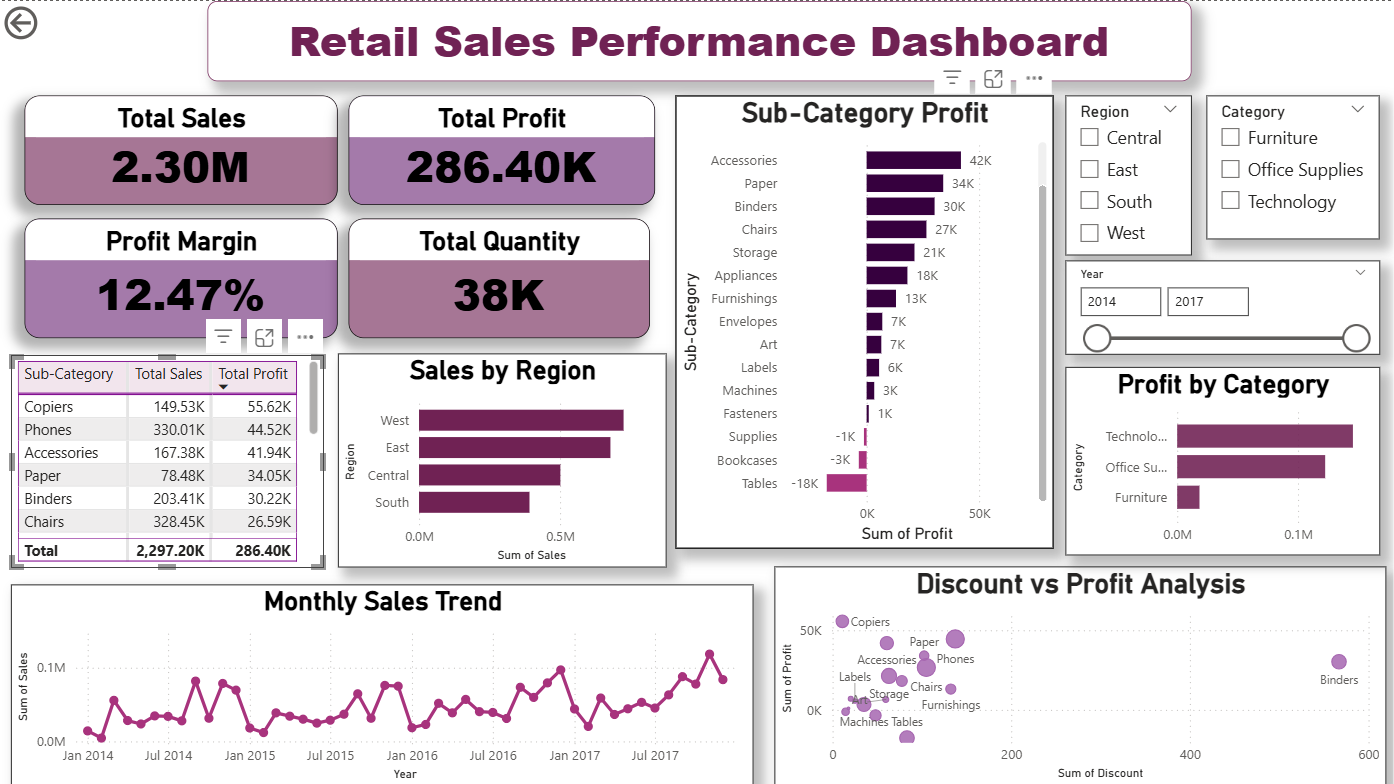

What the dashboard file says about the page in this screenshot:
{"tool":"powerbi","page":{"name":"Dashboard","canvas":[1280,720],"ordinal":3},"visuals":[{"type":"textbox","box":[190,0,898.3,73.3],"z":0},{"type":"card","title":"Total Sales","fields":{"Values":["Sum(Sample - Superstore.Sales)"]},"box":[23.4,85.9,285.9,100],"z":1000},{"type":"card","title":"Total Profit","fields":{"Values":["Sum(Sample - Superstore.Profit)"]},"box":[318.8,85.9,279.7,100],"z":2000},{"type":"card","title":"Total Quantity","fields":{"Values":["Sum(Sample - Superstore.Quantity)"]},"box":[318.8,198.4,275,109.4],"z":3000},{"type":"card","title":"Profit Margin","fields":{"Values":["Sample - Superstore.Profit Margin"]},"box":[23.4,198.4,285.9,109.4],"z":4000},{"type":"clusteredBarChart","title":"Sales by Region","fields":{"Category":["Sample - Superstore.Region"],"Y":["Sum(Sample - Superstore.Sales)"]},"box":[309.4,321.9,300,195.3],"z":5000},{"type":"clusteredBarChart","title":"Sub-Category Profit","fields":{"Category":["Sample - Superstore.Sub-Category"],"Y":["Sum(Sample - Superstore.Profit)"]},"box":[617.2,85.9,345.3,414.1],"z":6000},{"type":"scatterChart","title":"Discount vs Profit Analysis","fields":{"X":["Sum(Sample - Superstore.Discount)"],"Y":["Sum(Sample - Superstore.Profit)"],"Category":["Sample - Superstore.Sub-Category"],"Size":["Sum(Sample - Superstore.Sales)"]},"box":[707.7,516.9,558.5,200],"z":7000},{"type":"slicer","title":"Region","fields":{"Values":["Sample - Superstore.Region"]},"box":[973.8,86.2,115.4,146.2],"z":8000},{"type":"lineChart","title":"Monthly Sales Trend","fields":{"Category":["Sample - Superstore.Order Date.Variation.Date Hierarchy.Year","Sample - Superstore.Order Date.Variation.Date Hierarchy.Quarter","Sample - Superstore.Order Date.Variation.Date Hierarchy.Month","Sample - Superstore.Order Date.Variation.Date Hierarchy.Day"],"Y":["Sum(Sample - Superstore.Sales)"]},"box":[10.9,532.8,678.1,184.4],"z":9000},{"type":"slicer","fields":{"Values":["Sample - Superstore.Category"]},"box":[1103.1,85.9,157.8,131.2],"z":10000},{"type":"slicer","fields":{"Values":["Sample - Superstore.Order Date.Variation.Date Hierarchy.Year"]},"box":[973.4,237.5,287.5,85.9],"z":10001},{"type":"clusteredBarChart","title":"Profit by Category","fields":{"Category":["Sample - Superstore.Category"],"Y":["Sum(Sample - Superstore.Profit)"]},"box":[973.4,334.4,287.5,171.9],"z":10002},{"type":"tableEx","fields":{"Values":["Sample - Superstore.Sub-Category","Sum(Sample - Superstore.Sales)","Sum(Sample - Superstore.Profit)"]},"box":[10.9,323.4,285.9,193.8],"z":10003},{"type":"actionButton","box":[0,0,100,40],"z":10004}]}

Visuals, with their boxes in screenshot pixels (x1, y1, x2, y2), scaled from the page's 1280x720 canvas onto the 1394x784 screenshot:
textbox: box=[207, 0, 1185, 80]
"Total Sales" card: box=[25, 94, 337, 202]
"Total Profit" card: box=[347, 94, 652, 202]
"Total Quantity" card: box=[347, 216, 647, 335]
"Profit Margin" card: box=[25, 216, 337, 335]
"Sales by Region" clusteredBarChart: box=[337, 351, 664, 563]
"Sub-Category Profit" clusteredBarChart: box=[672, 94, 1048, 544]
"Discount vs Profit Analysis" scatterChart: box=[771, 563, 1379, 781]
"Region" slicer: box=[1061, 94, 1186, 253]
"Monthly Sales Trend" lineChart: box=[12, 580, 750, 781]
slicer - Sample - Superstore.Category: box=[1201, 94, 1373, 236]
slicer - Sample - Superstore.Order Date.Variation.Date Hierarchy.Year: box=[1060, 259, 1373, 352]
"Profit by Category" clusteredBarChart: box=[1060, 364, 1373, 551]
tableEx - Sample - Superstore.Sub-Category x Sum(Sample - Superstore.Sales): box=[12, 352, 323, 563]
actionButton: box=[0, 0, 109, 44]
